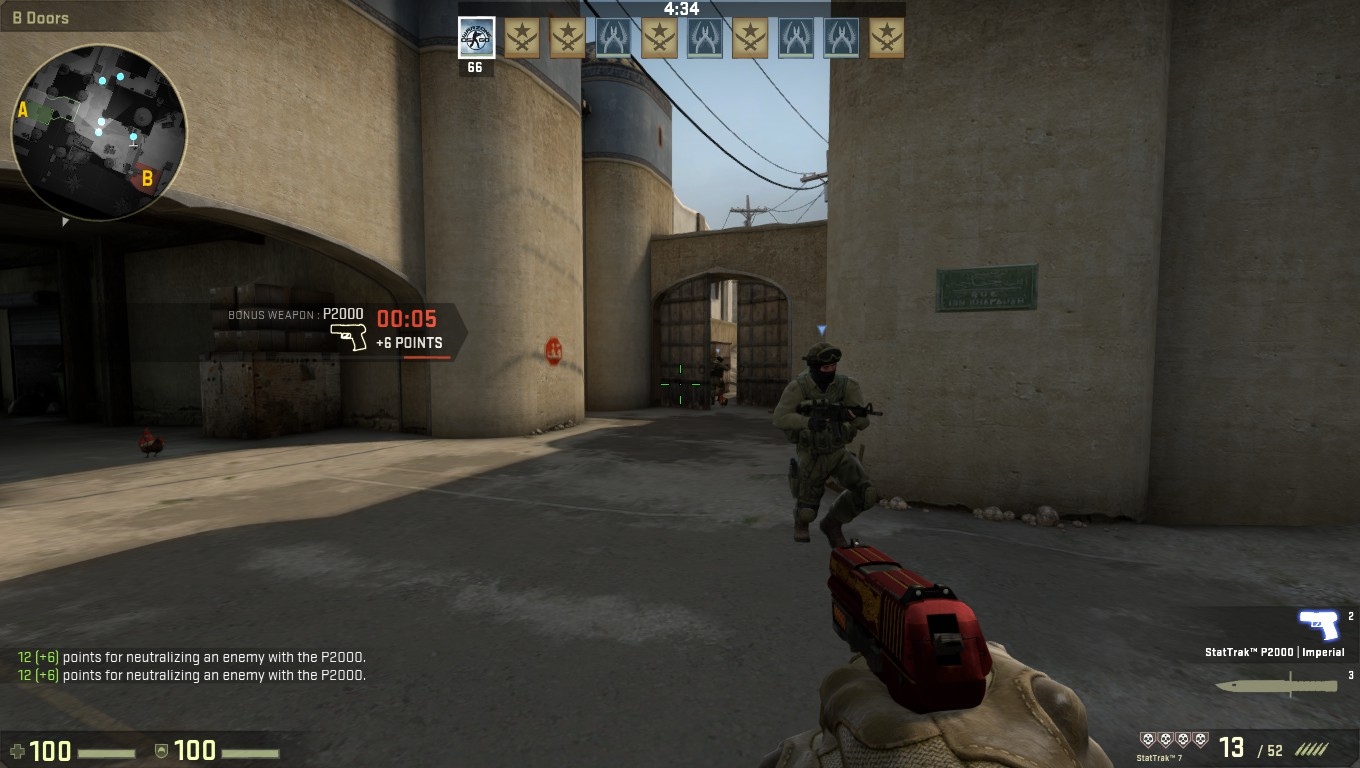c: (786, 342, 869, 545), (710, 356, 725, 406)
ch: (802, 344, 843, 388)
